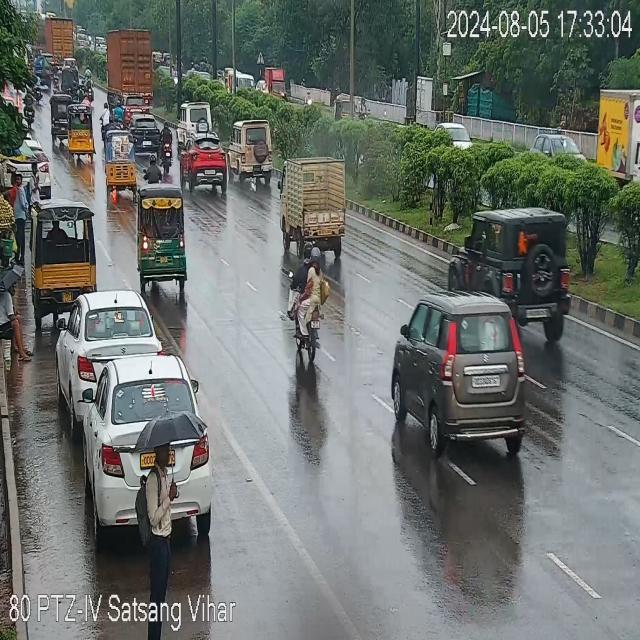2-wheelers: (290, 250, 322, 356), (158, 123, 176, 168), (144, 153, 164, 187)
auto: (281, 162, 349, 246), (34, 210, 96, 292), (139, 198, 187, 294), (108, 128, 136, 188), (70, 106, 96, 156), (52, 95, 72, 141)
car: (94, 360, 212, 526), (404, 301, 524, 439), (459, 208, 574, 336), (56, 287, 154, 402), (232, 118, 270, 178), (180, 138, 227, 186), (532, 130, 586, 162), (178, 95, 218, 137)
pedestrian: (141, 428, 173, 640), (0, 278, 26, 358), (12, 179, 28, 249), (29, 164, 40, 212)
truck: (593, 90, 640, 186)
